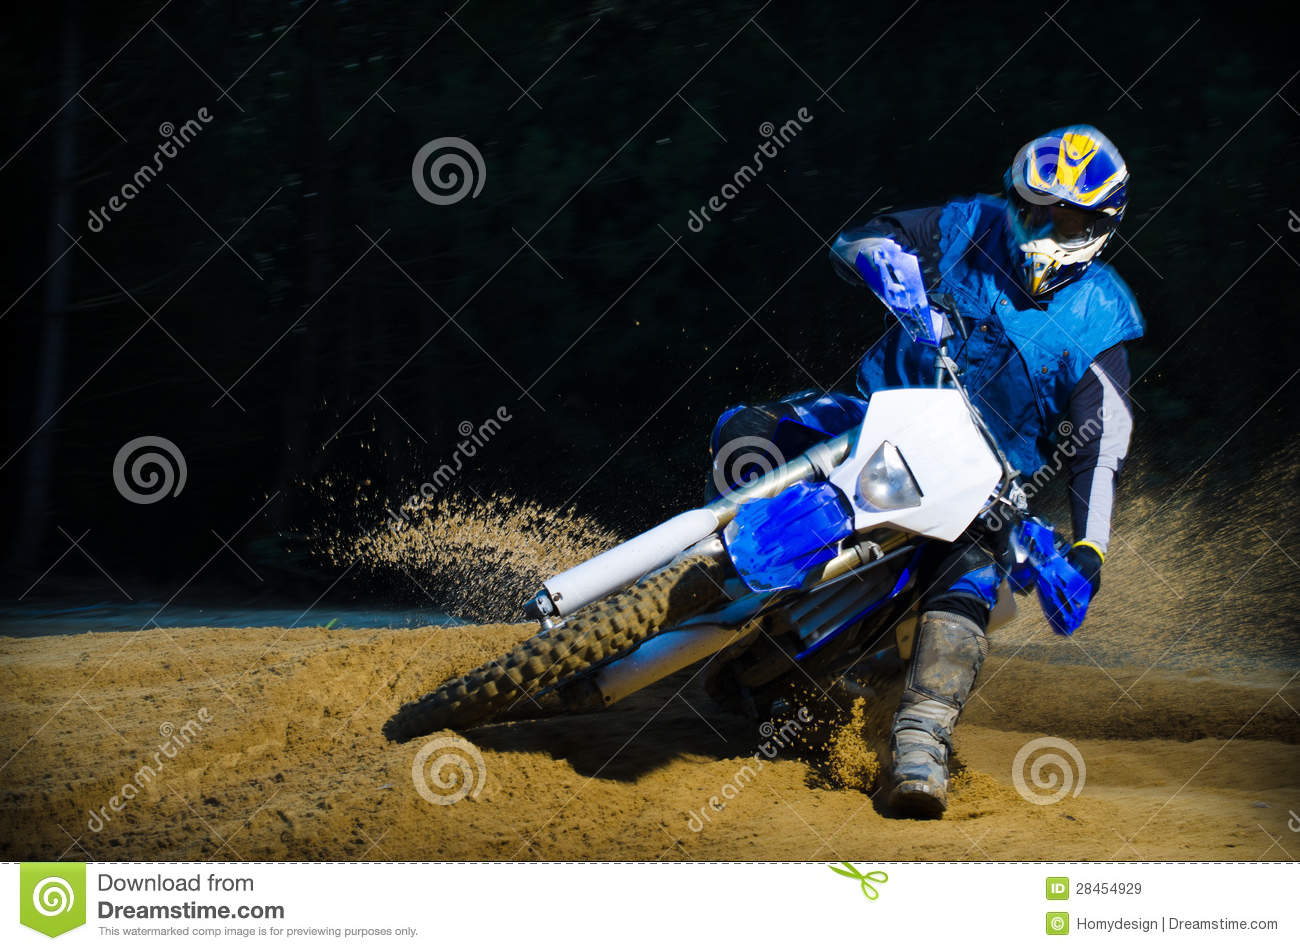helmet: (997, 117, 1140, 284)
